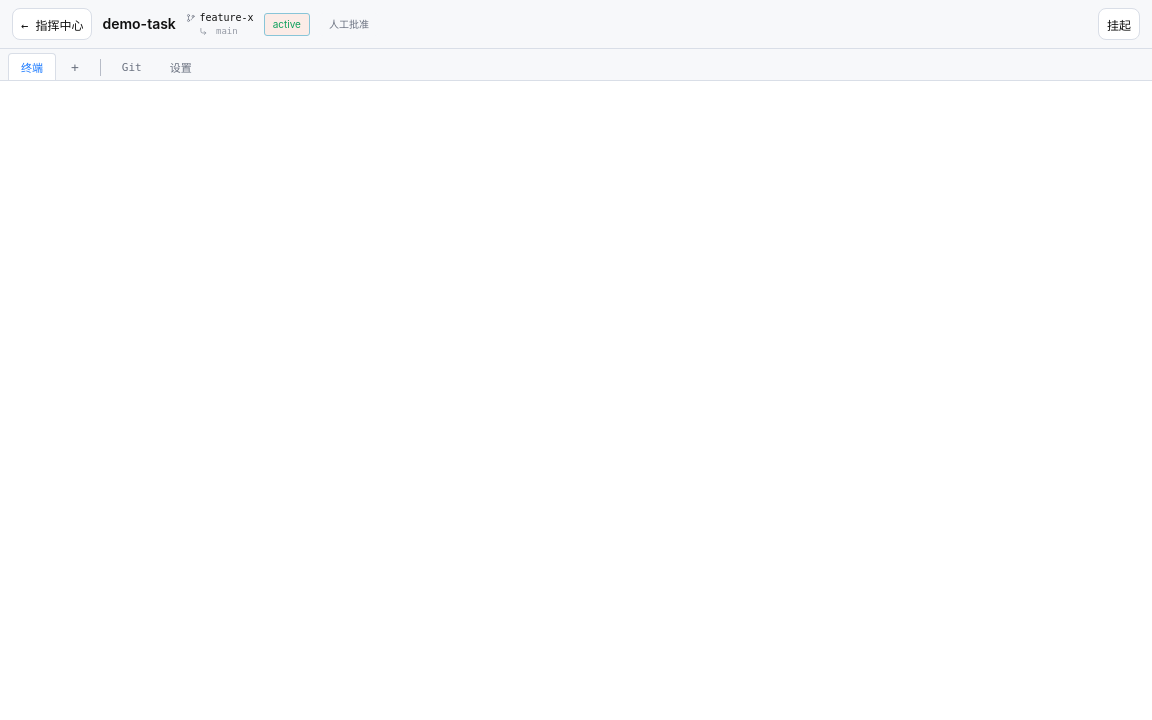
分支名点击复制（tasks 3.3 / design D3） › 复制失败（Clipboard API 拒绝）：toast 指引悬浮提示兜底
The width and height of the screenshot is (1152, 720).
Step 1. Click the button with class "branch-copy" showing "main" → (227, 31), box [211,25,243,37]
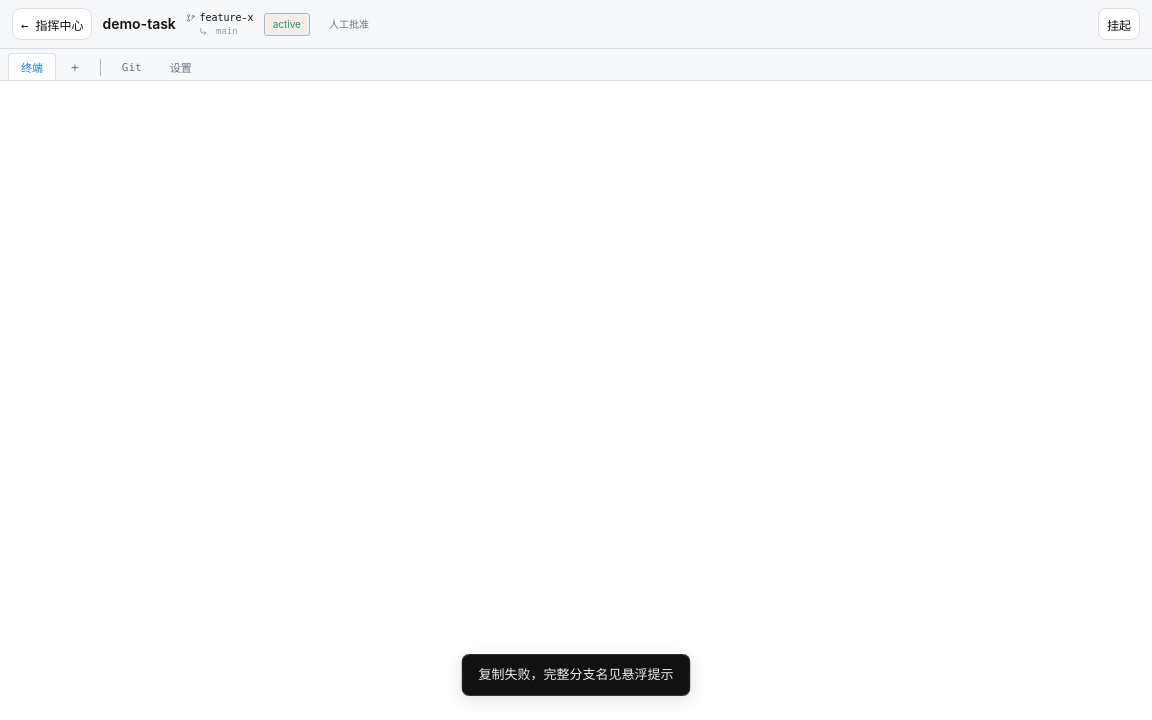
Now the message with class "od-toast" reads "复制失败，完整分支名见悬浮提示", box [478,667,674,682]
